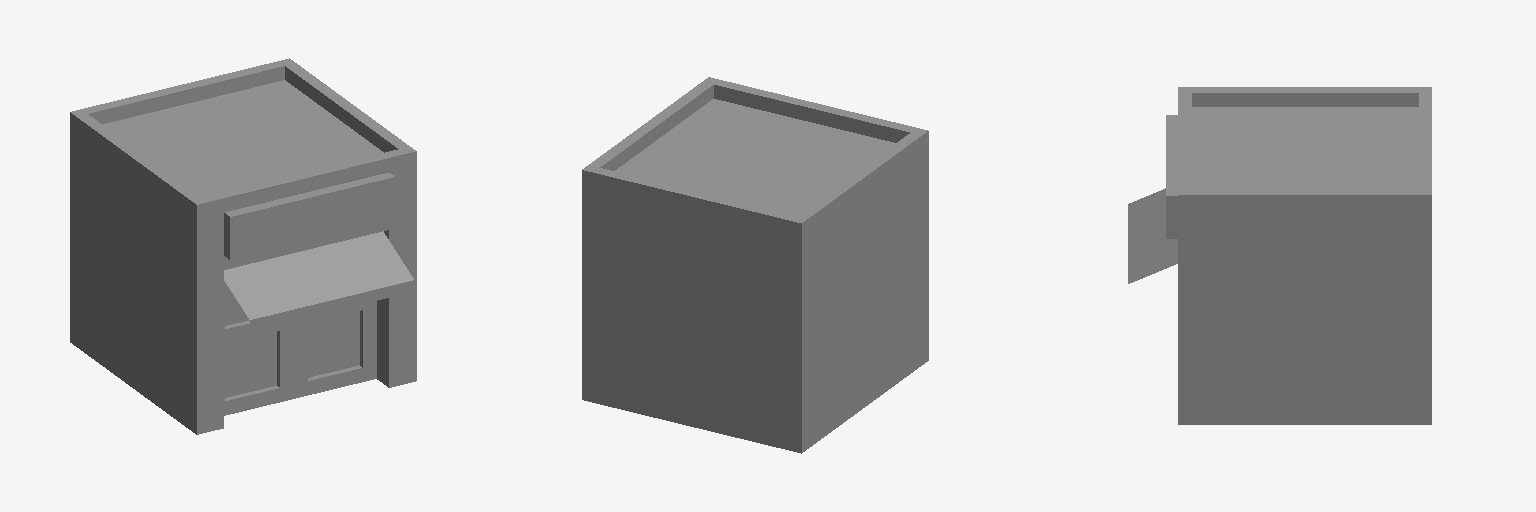
The model's file is house-v3.obj.
3 renders of one model, left to right at view 1: azimuth 30°, elevation 25°; view 2: azimuth 150°, elevation 25°; view 3: azimuth 270°, elevation 25°, orthographic.
Visible parts, largest first — view 1: Cube; view 2: Cube; view 3: Cube.
Boxes of the visible parts, box(x1,y1,x2,y2) form: Cube: box(70, 58, 416, 434); Cube: box(582, 77, 928, 453); Cube: box(1128, 87, 1431, 424).
Size of the model in its own units: 2 by 2 by 2.4.